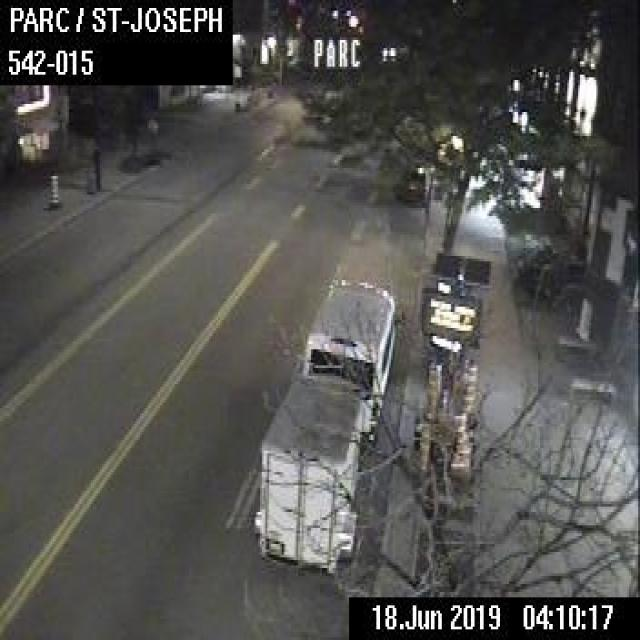construction: (421, 249, 490, 393), (458, 357, 476, 426), (423, 360, 442, 420), (452, 412, 469, 468), (417, 418, 430, 469), (47, 172, 58, 207)
vehicle: (252, 274, 394, 566), (394, 163, 426, 208)
